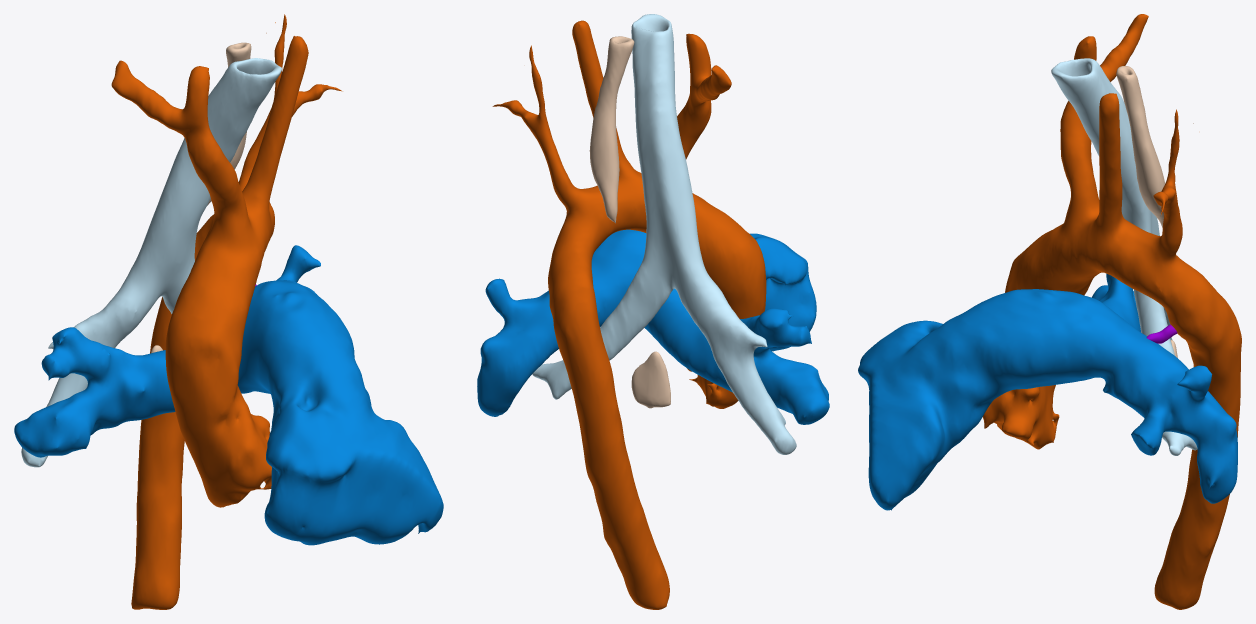
The model's file is Normal aortic arch.gltf.
3 views of the same model, side by side, from view 1: azimuth 30°, elevation 25°; view 2: azimuth 150°, elevation 25°; view 3: azimuth 270°, elevation 25° (orthographic). The views are drawn at different scales.
Visible parts, largest first — view 1: pa, aorta, trachea, esophagus; view 2: aorta, trachea, pa, esophagus; view 3: pa, aorta, trachea, esophagus.
Part boxes in pixels (x1=…): pa: x1=14, y1=245, x2=443, y2=545; aorta: x1=111, y1=14, x2=342, y2=609; trachea: x1=21, y1=58, x2=281, y2=467; esophagus: x1=150, y1=42, x2=251, y2=353; aorta: x1=492, y1=20, x2=766, y2=609; trachea: x1=532, y1=14, x2=796, y2=454; pa: x1=477, y1=229, x2=829, y2=424; esophagus: x1=589, y1=36, x2=670, y2=408; pa: x1=858, y1=273, x2=1237, y2=510; aorta: x1=983, y1=14, x2=1241, y2=609; trachea: x1=1051, y1=58, x2=1197, y2=455; esophagus: x1=1116, y1=66, x2=1177, y2=357.
Bounding box in the file's own units: 72.68 × 112 × 68.84.
